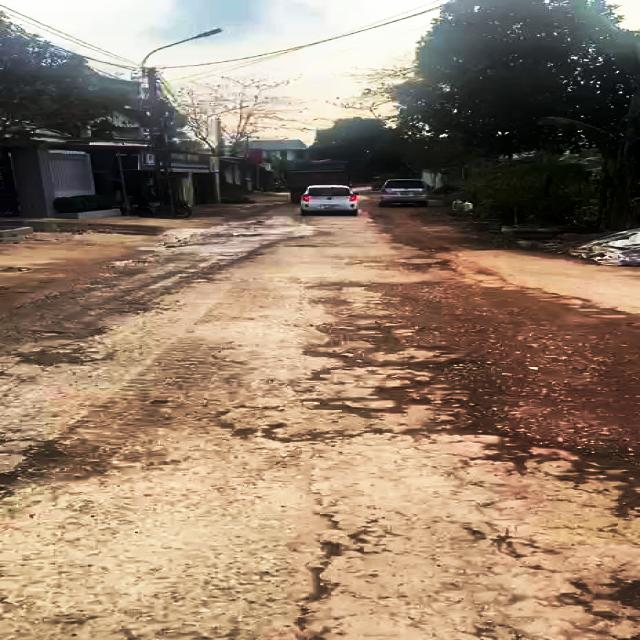pothole: (557, 452, 640, 518), (305, 381, 432, 416), (230, 419, 338, 444), (479, 432, 538, 474), (404, 358, 491, 380)
